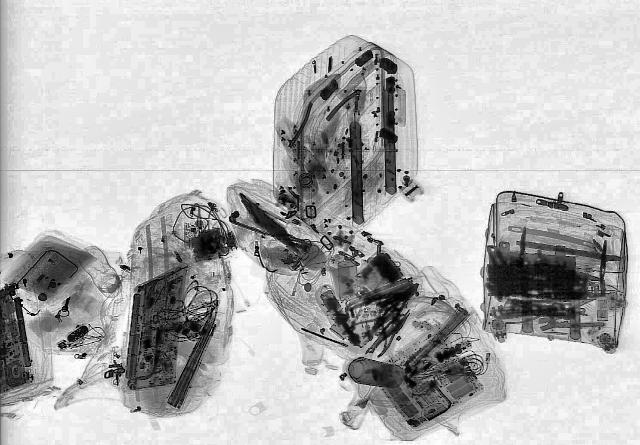Pliers: (529, 296, 611, 338)
